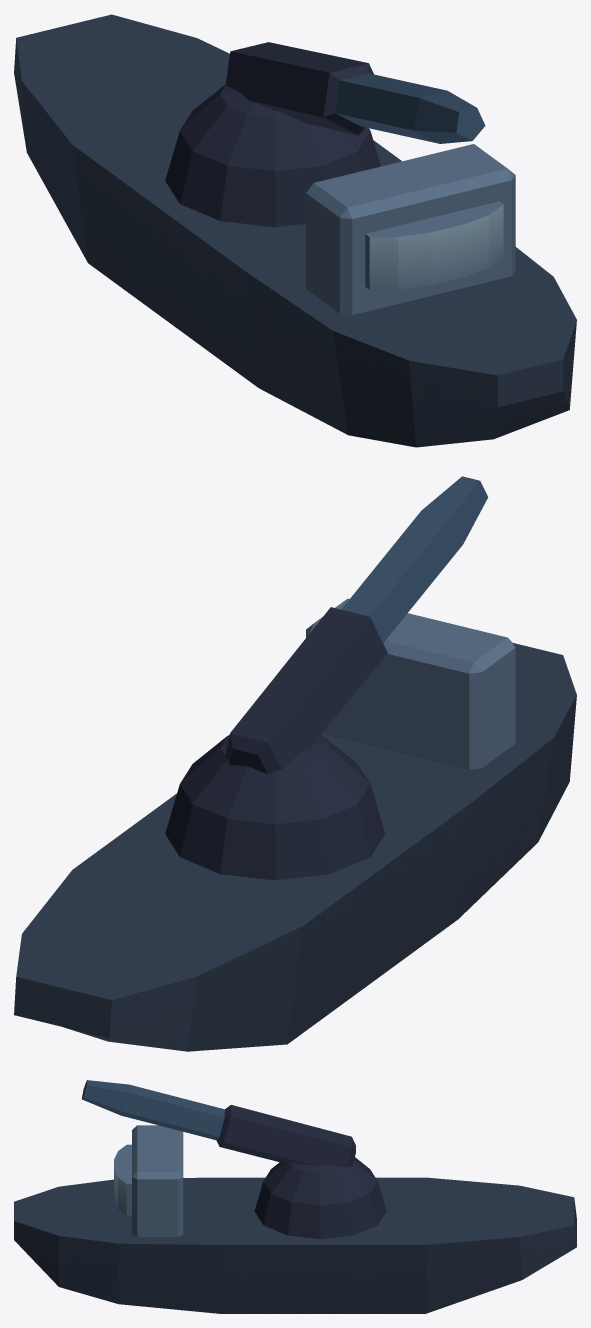
The model's file is BOAT.fbx.
The picture shows the model from 3 angles, top to bottom: view 1: azimuth 30°, elevation 25°; view 2: azimuth 150°, elevation 25°; view 3: azimuth 270°, elevation 25°; orthographic projection. The views are drawn at different scales.
Parts seen in each view (by area): view 1: boat, boat.canon; view 2: boat, boat.canon; view 3: boat, boat.canon.
Part boxes in pixels (left/top/right/bottom): boat: left=14, top=14, right=576, bottom=447; boat.canon: left=225, top=42, right=485, bottom=143; boat: left=14, top=598, right=576, bottom=1051; boat.canon: left=225, top=476, right=488, bottom=774; boat: left=14, top=1125, right=576, bottom=1313; boat.canon: left=82, top=1080, right=355, bottom=1167.
Bounding box in the file's own units: 314 × 478 × 1106.
